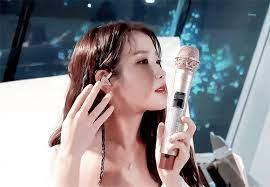earphone: (99, 76, 114, 89)
